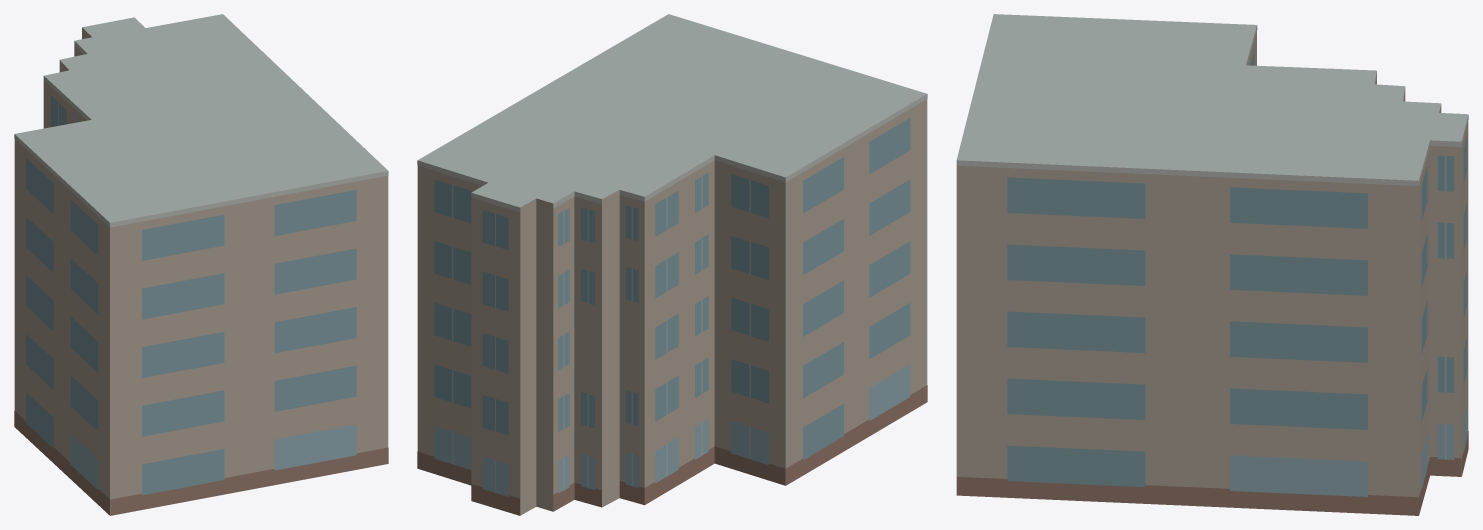
File: survey-upis-32719868.glb
3 views of the same model, side by side, from view 1: azimuth 30°, elevation 25°; view 2: azimuth 150°, elevation 25°; view 3: azimuth 270°, elevation 25° (orthographic). The views are drawn at different scales.
Visible parts, largest first — view 1: survey-upis-32719868.tmp; view 2: survey-upis-32719868.tmp; view 3: survey-upis-32719868.tmp.
Part boxes in pixels (<box>): survey-upis-32719868.tmp: <box>14,14,388,515</box>; survey-upis-32719868.tmp: <box>417,14,927,515</box>; survey-upis-32719868.tmp: <box>956,14,1468,515</box>.
Size of the model in its own units: 16.28 by 15.25 by 21.12.
